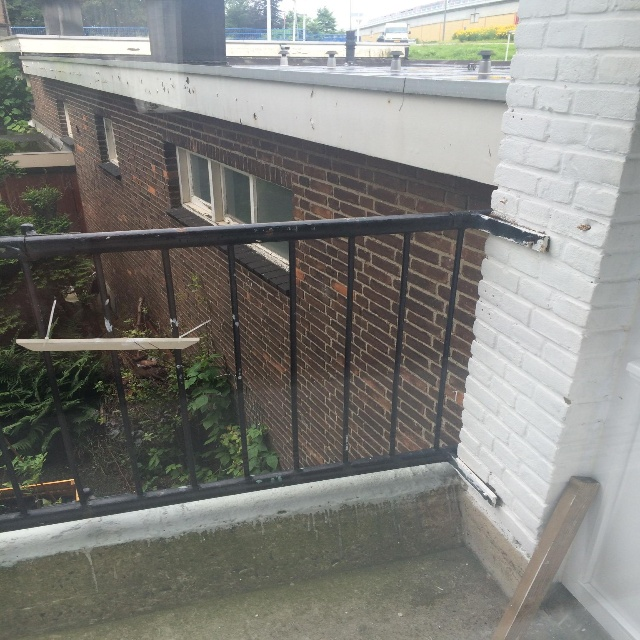obstacle: (205, 0, 640, 638)
